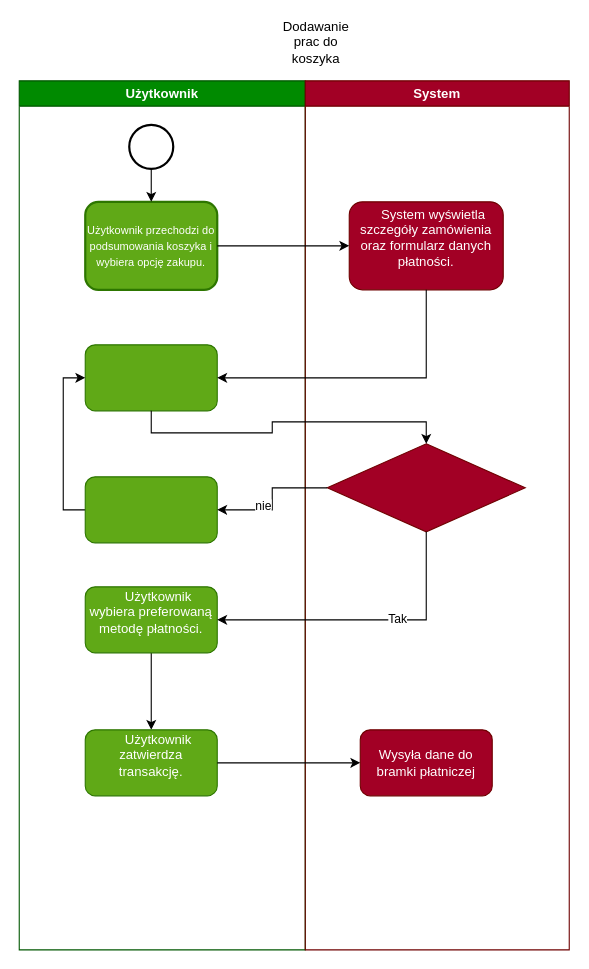
This 589x969 diagram has some shape labels left out. The centre of each missing label's shape, as x and y in pixels:
"Czy danę są uzupełnione" goes at (x=425, y=487).
"Użytkownik uzupełnia wymagane dane rozliczeniowe" goes at (x=150, y=377).
"Wyświetla komunikat proszący o uzupełnieniu danych" goes at (x=150, y=509).
